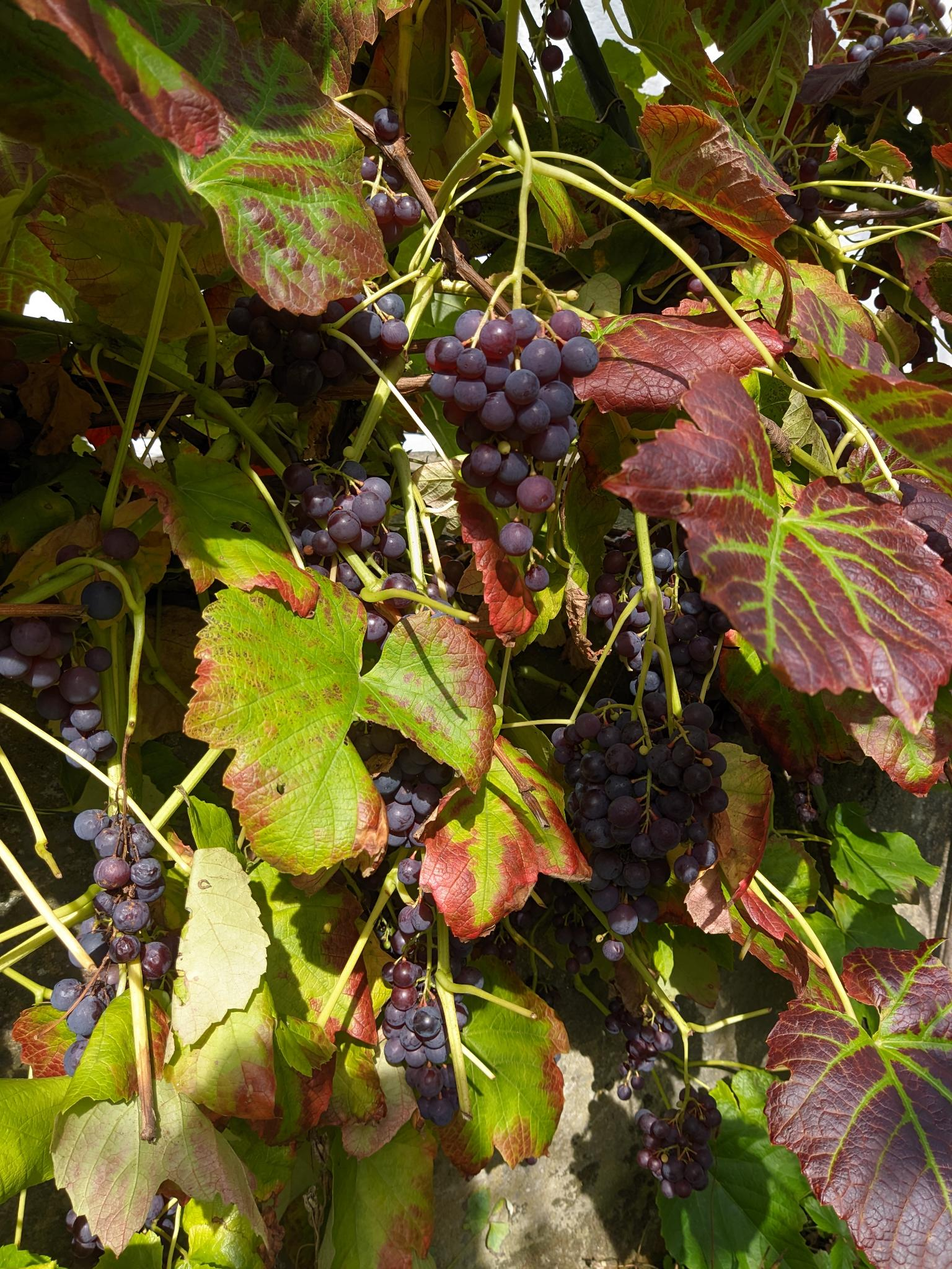Grape Ripe: (53, 802, 166, 1263), (423, 305, 599, 592), (547, 692, 729, 958), (374, 744, 485, 1125), (1, 524, 140, 768), (283, 460, 469, 640), (226, 286, 411, 400), (593, 536, 716, 691), (634, 1087, 721, 1200), (607, 991, 682, 1100), (364, 100, 423, 226), (847, 0, 950, 63), (536, 9, 571, 72), (789, 767, 823, 824)
